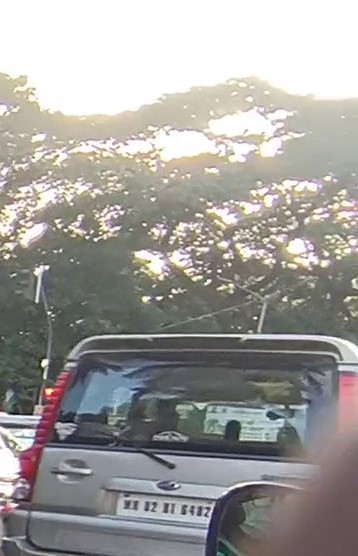MH02BT6482: (116, 492, 217, 526)
